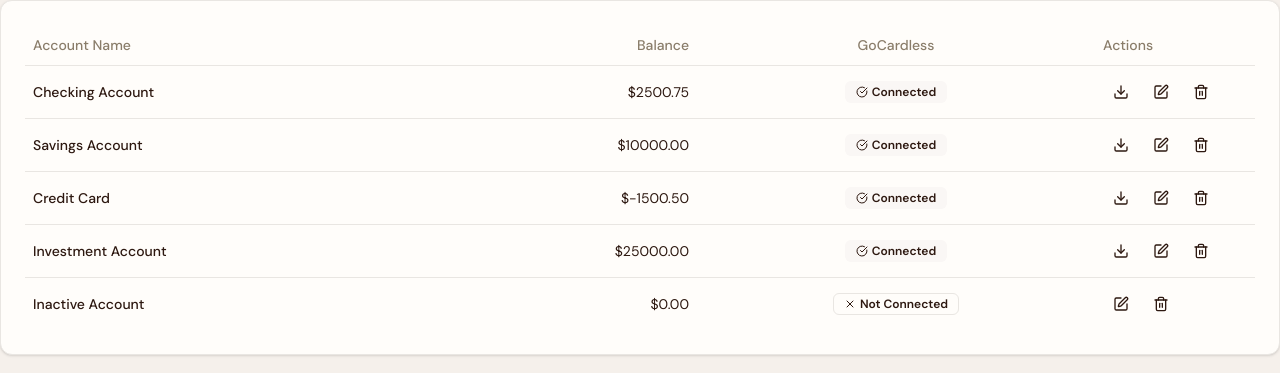
Test: BankAccounts › Account Actions › should reset confirm delete state when different account delete is clicked
The image size is (1280, 373).
Click the button titled "Delete Account" in the row of "Checking Account".
click(1201, 92)  # box [1183,74,1219,110]
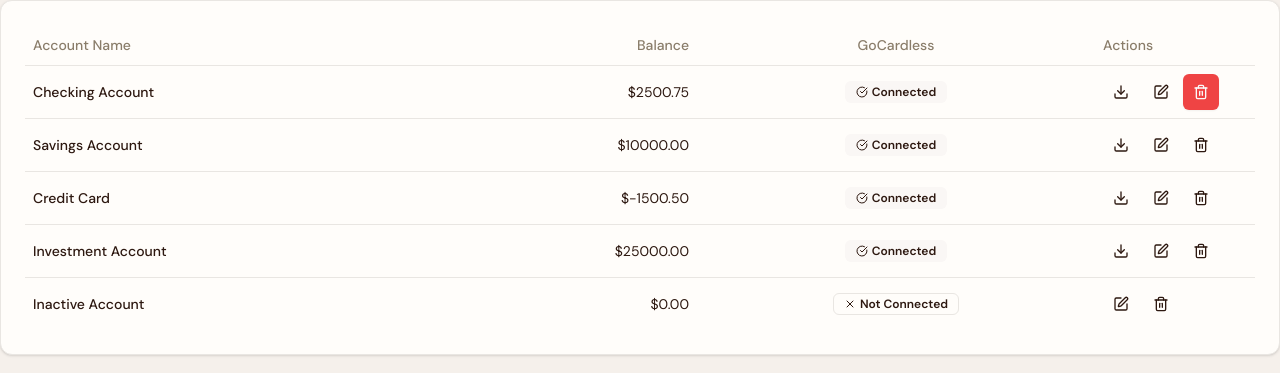
Click the button titled "Delete Account" in the row of "Savings Account".
click(1201, 144)  # box [1183,126,1219,162]
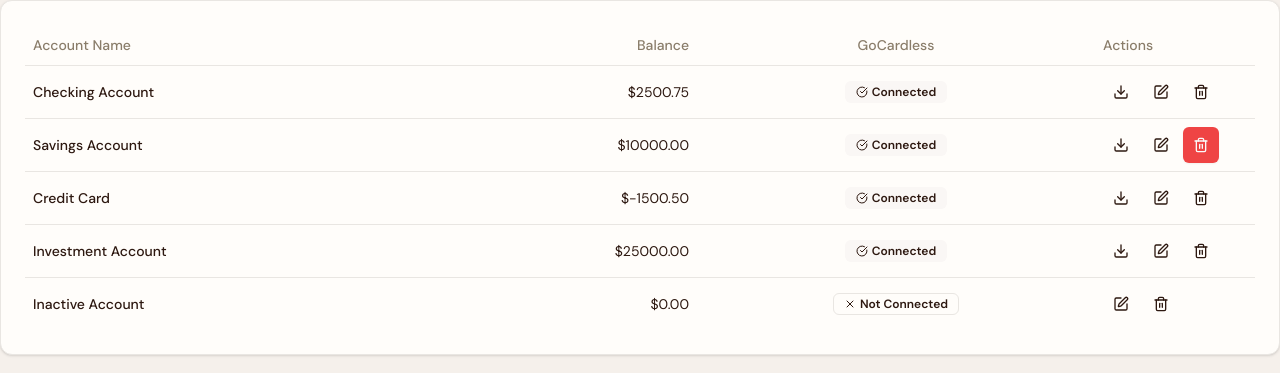
Expected: the number of buttons titled "Delete Account" is 4, [1183,74,1219,110]; [1183,180,1219,216]; [1183,232,1219,268]; [1143,286,1179,322]
Now the button titled "Confirm Delete" is shown, box [1183,126,1219,162]
